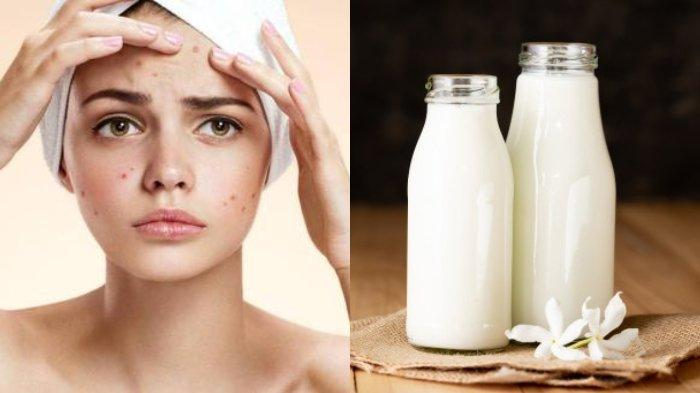Acne: (70, 157, 135, 227), (210, 181, 258, 226)
